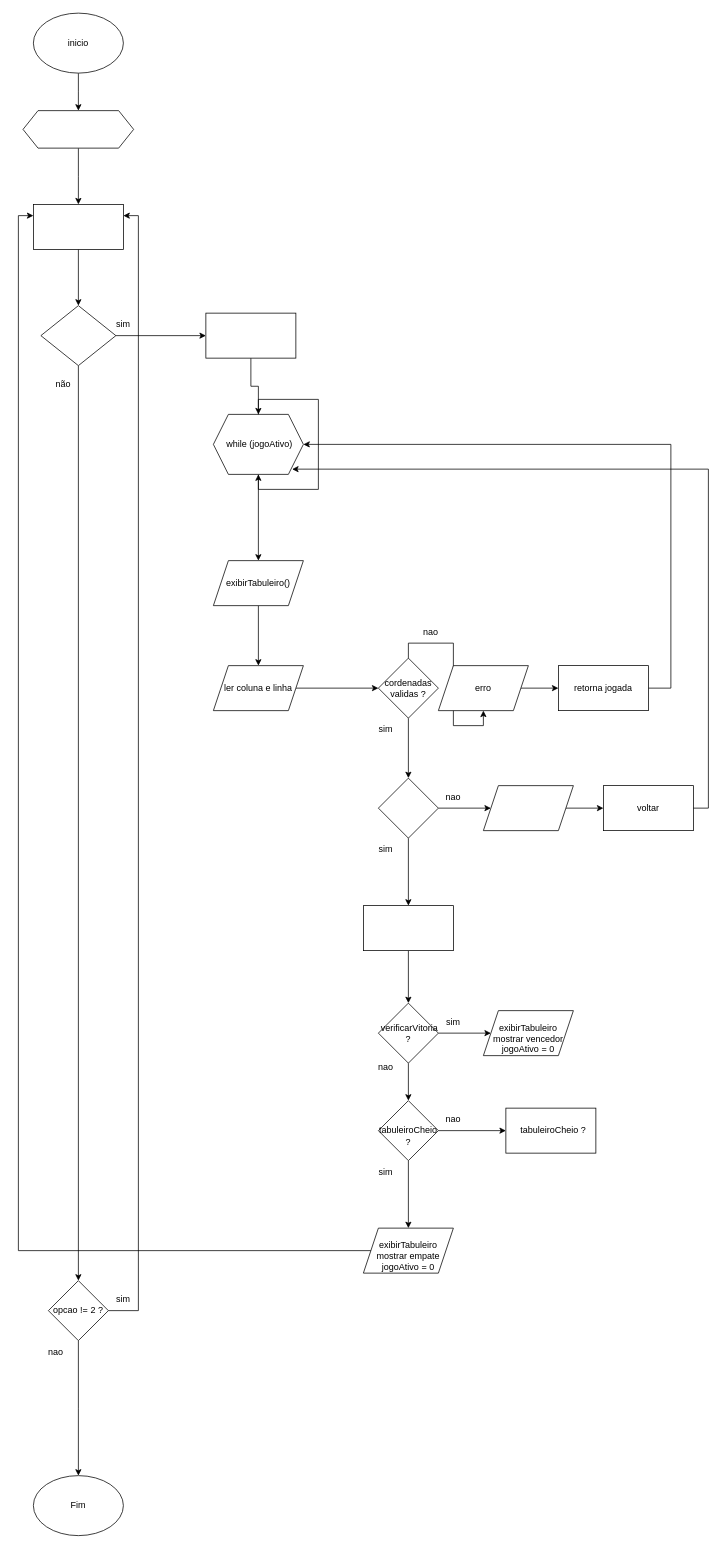
This 728x1549 diagram has some shape labels left out. Here are the shapes that lost their labels. From the top down, the centre of each, then its label:
At (x=78, y=129): "do while".
At (x=78, y=226): "chamar menu()".
At (x=78, y=335): "opcao == 1 ?".
At (x=250, y=335): "Inicializar tabuleiro playerAtual = X jogoAtivo = 1".
At (x=408, y=807): "jogada valida ?".
At (x=528, y=808): "posição ocupada".
At (x=408, y=928): "jogada_action()".
